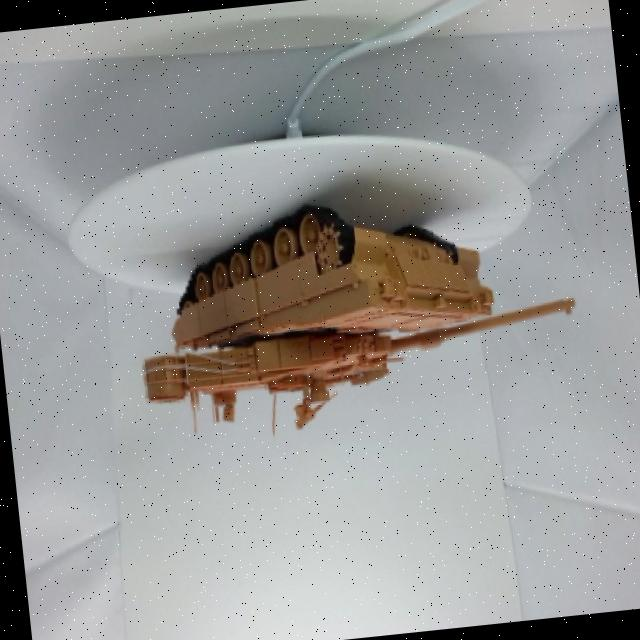korea tank: (111, 166, 610, 462)
